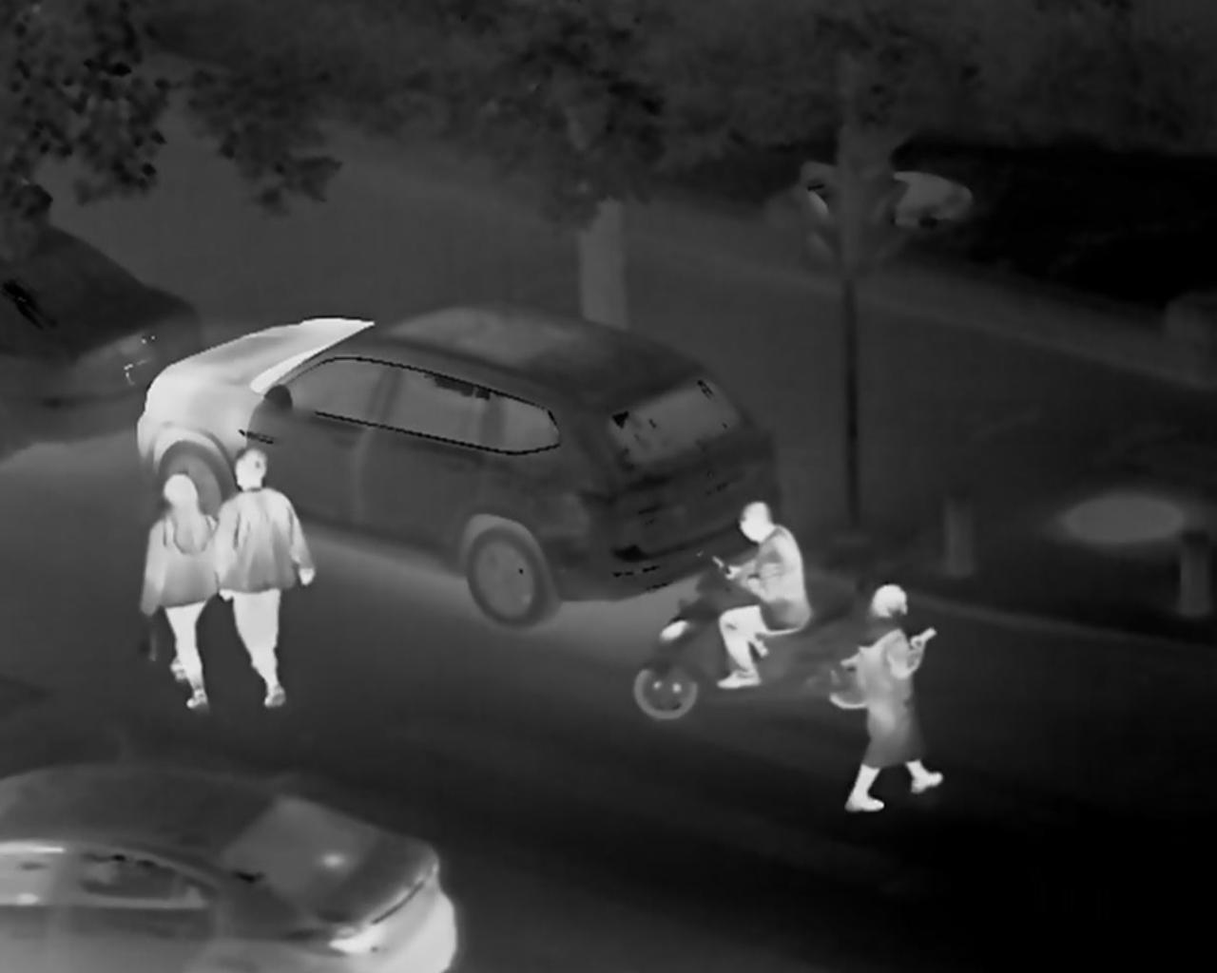person: (838, 570, 948, 818), (223, 454, 328, 694), (726, 490, 817, 698), (136, 467, 212, 710)
